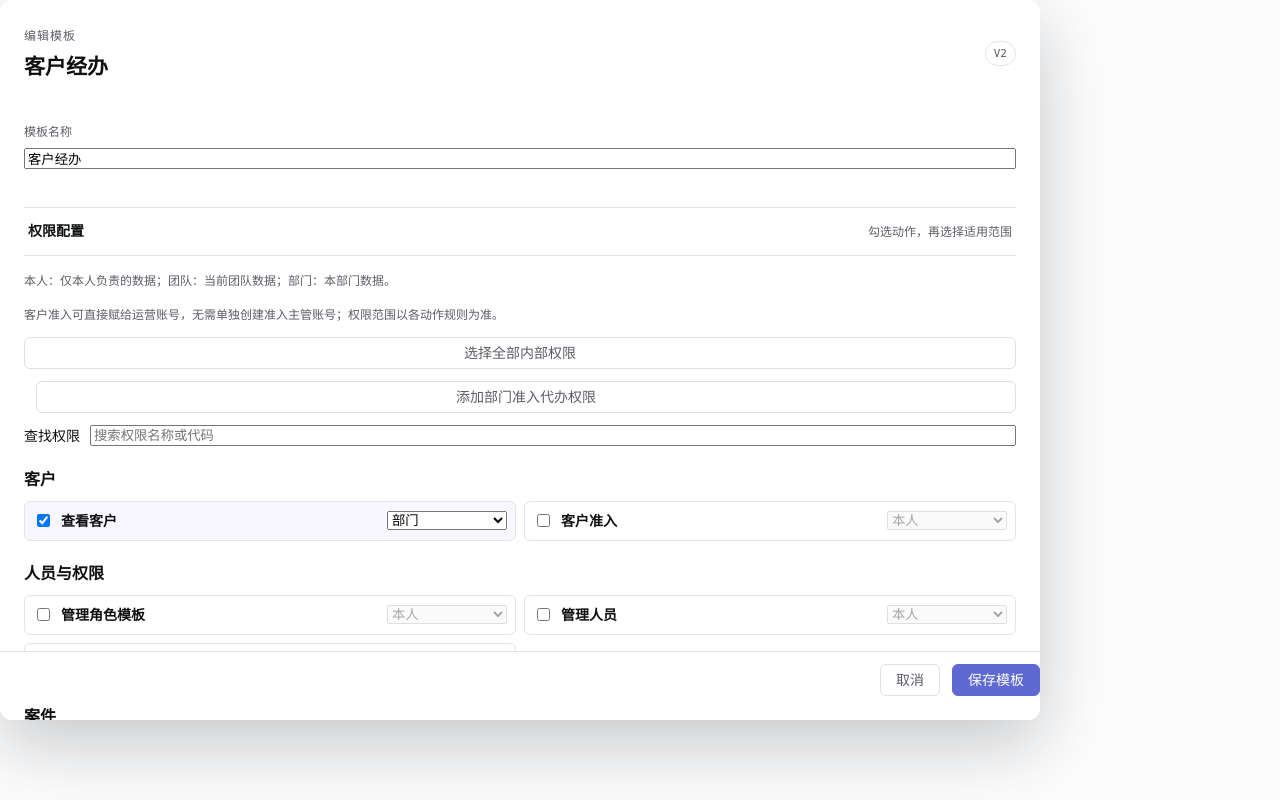
Test case: RoleTemplateEditor › keeps the full selection and name after a 403 response
Replace the text in the field with test id "role-template-name" with "运营全权限": (520, 159) [24,148,1016,169]
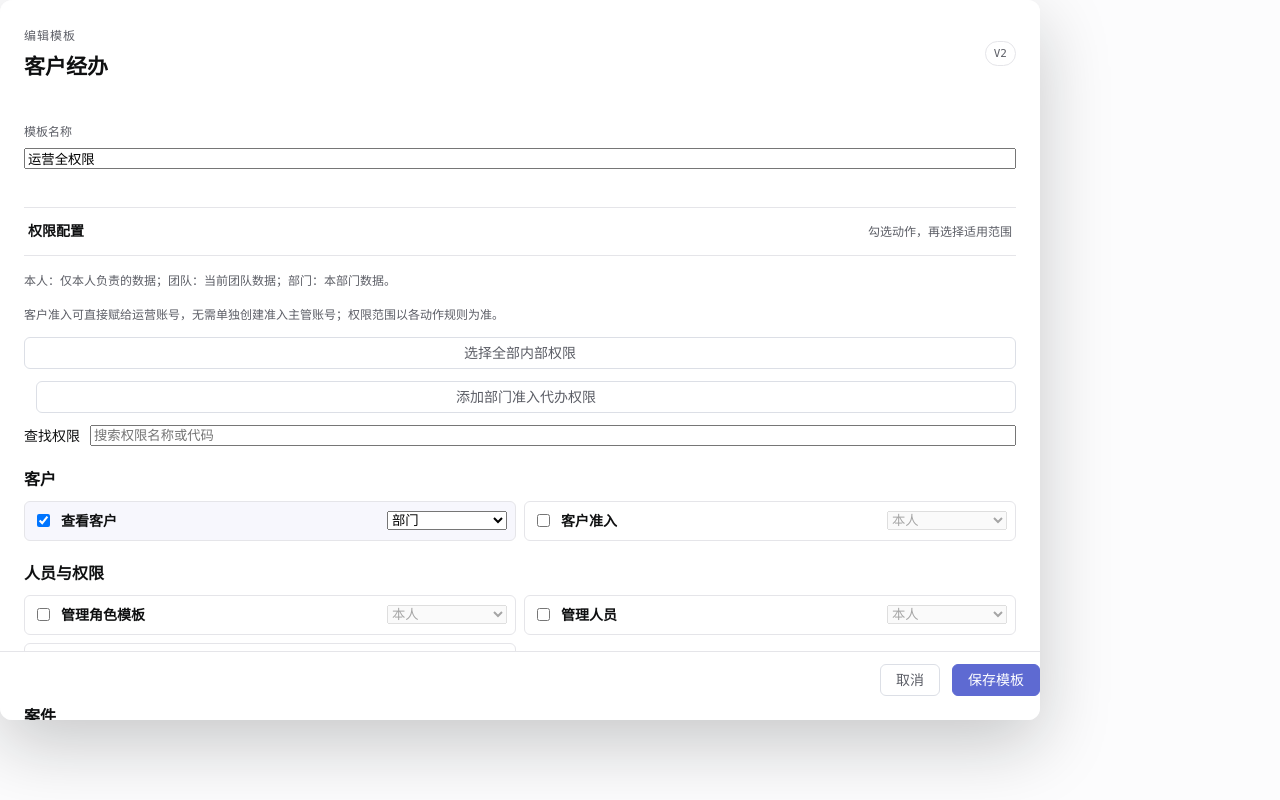
Click the button with test id "select-all-internal-permissions": (520, 353) [24,337,1016,369]
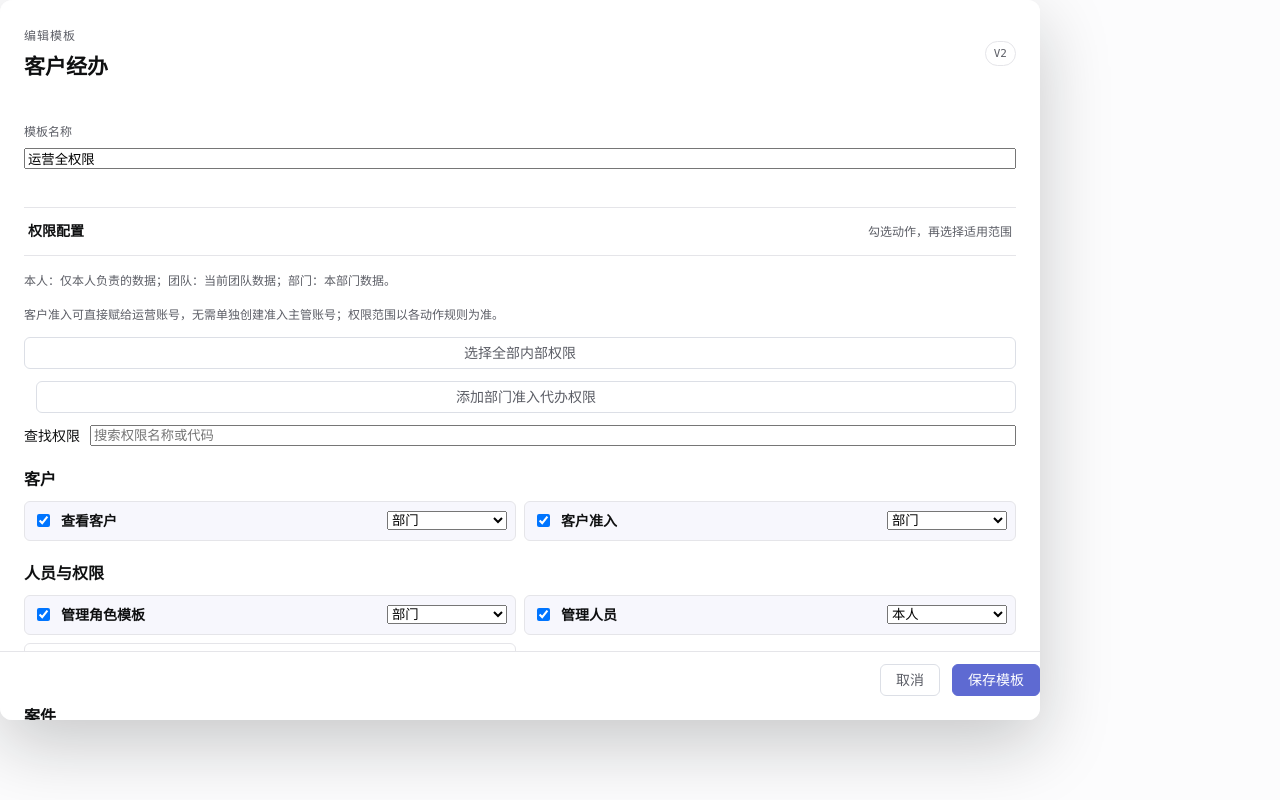
Click the button with test id "role-template-save": (996, 680) [952,664,1040,696]
(page scrolled)
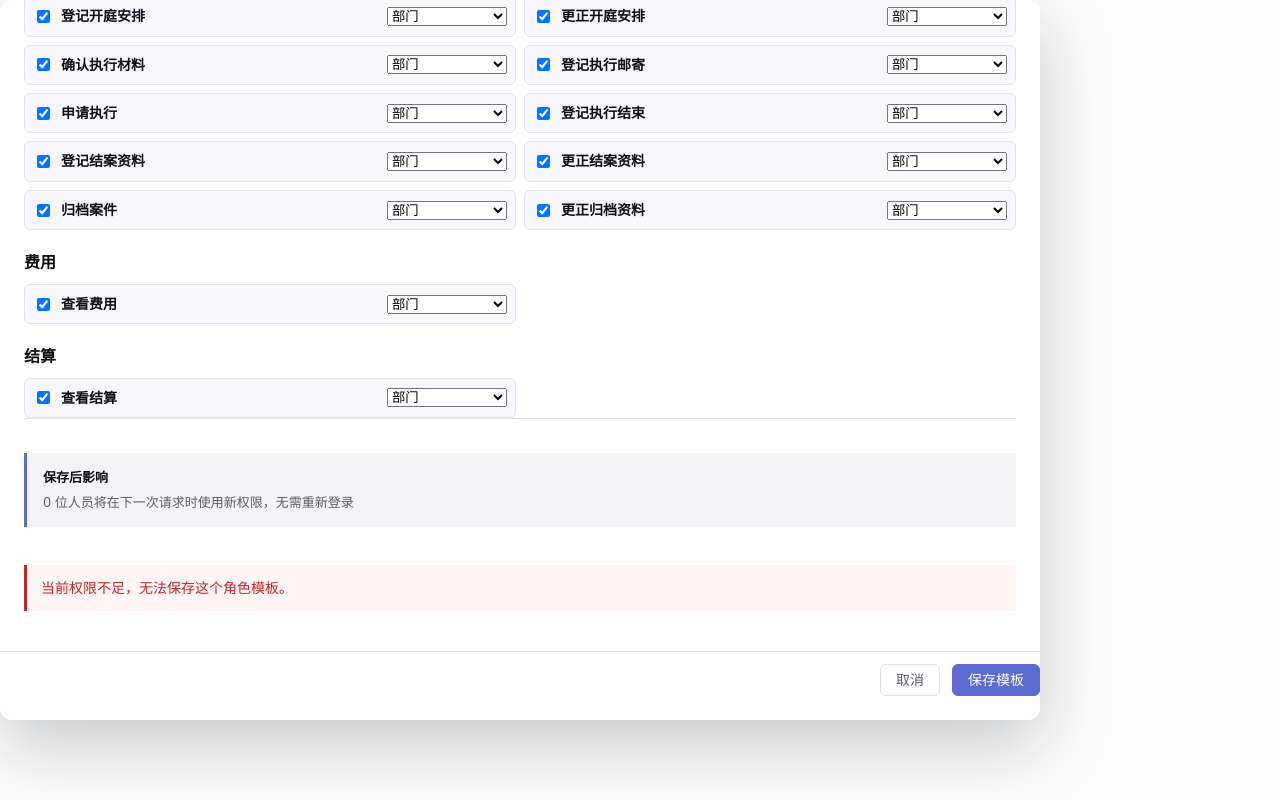
expect the message "当前权限不足，无法保存这个角色模板。" is shown: met, box [24,565,1016,611]
